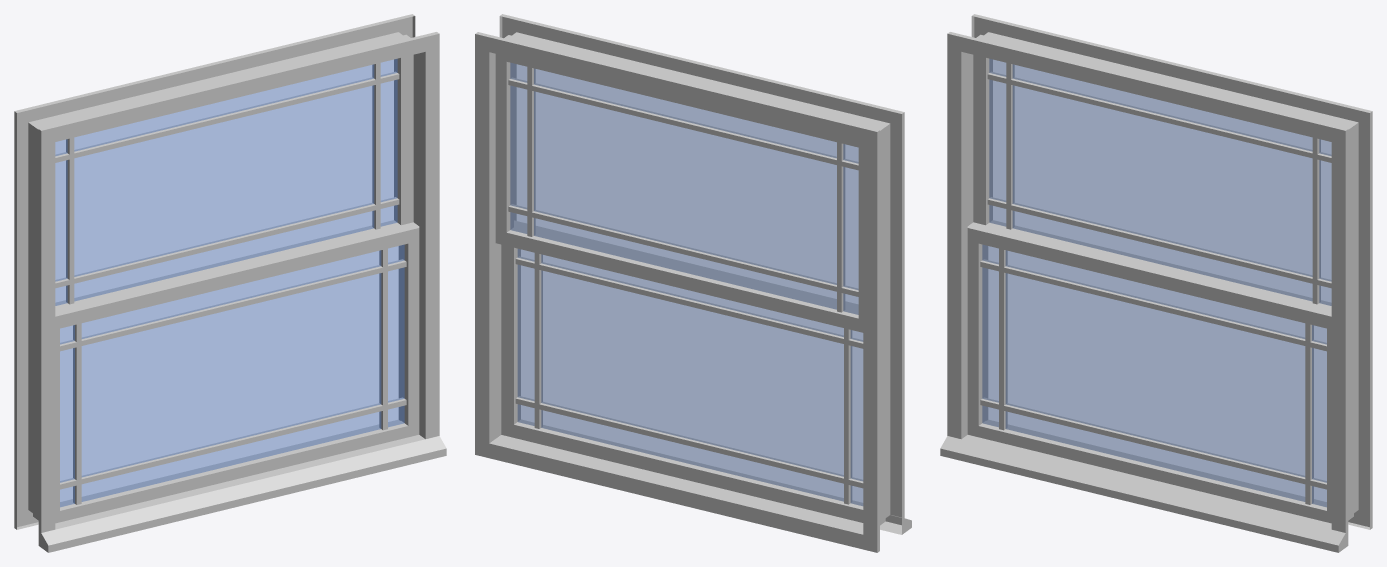
3 views of the same model, side by side, from view 1: azimuth 30°, elevation 25°; view 2: azimuth 150°, elevation 25°; view 3: azimuth 330°, elevation 25° (orthographic).
Parts seen in each view (by area): view 1: Group1; view 2: Group1; view 3: Group1.
Boxes of the visible parts, box(x1,y1,x2,y2) form: Group1: box(14, 14, 446, 552); Group1: box(475, 14, 911, 552); Group1: box(940, 14, 1372, 552).
Size of the model in its own units: 64 by 64 by 9.5.
